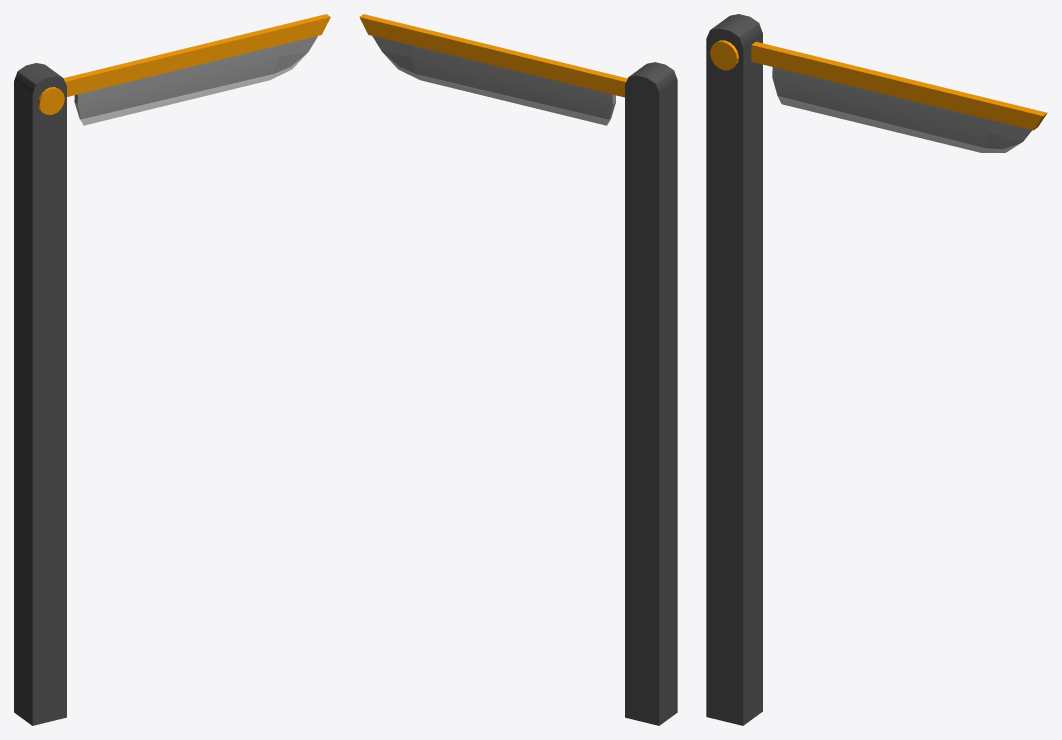
Rendered from trap_03.fbx.
3 views of the same model, side by side, from view 1: azimuth 30°, elevation 25°; view 2: azimuth 150°, elevation 25°; view 3: azimuth 330°, elevation 25° (orthographic). The views are drawn at different scales.
Visible parts, largest first — view 1: trap_03_base, trap_03_knife; view 2: trap_03_base, trap_03_knife; view 3: trap_03_base, trap_03_knife.
Boxes of the visible parts, box(x1,y1,x2,y2) form: trap_03_base: box(14, 63, 66, 725); trap_03_knife: box(38, 14, 330, 125); trap_03_base: box(625, 62, 677, 725); trap_03_knife: box(359, 14, 627, 125); trap_03_base: box(706, 14, 762, 725); trap_03_knife: box(710, 40, 1047, 152).
Size of the model in its own units: 1829 by 3679 by 210.
1 material, 1 textured.
